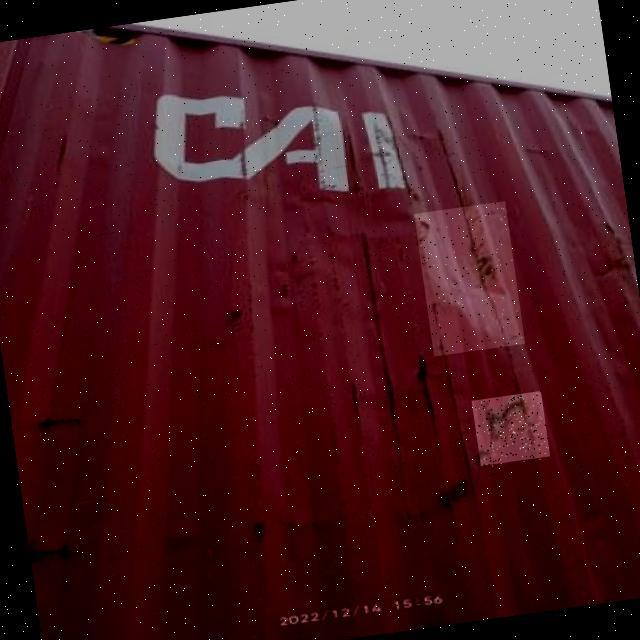Dent: (414, 202, 525, 357)
Rust: (472, 392, 551, 469)
